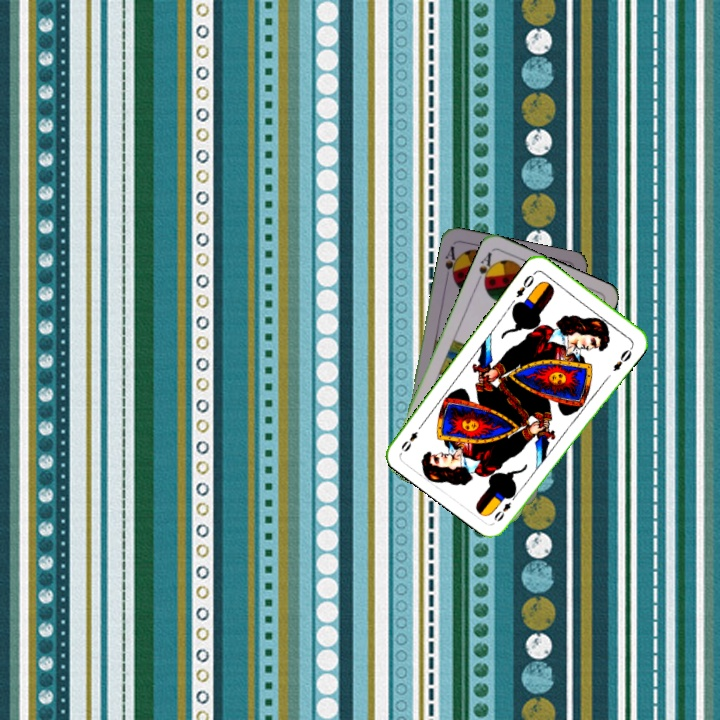EO: (512, 271, 537, 300), (490, 498, 514, 524)
SA: (472, 248, 498, 289), (441, 242, 461, 283)
